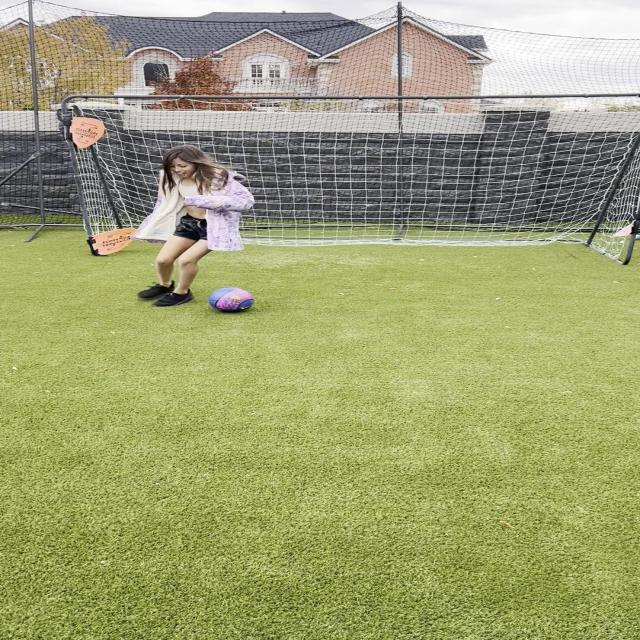Soccer Ball: (207, 288, 255, 313)
